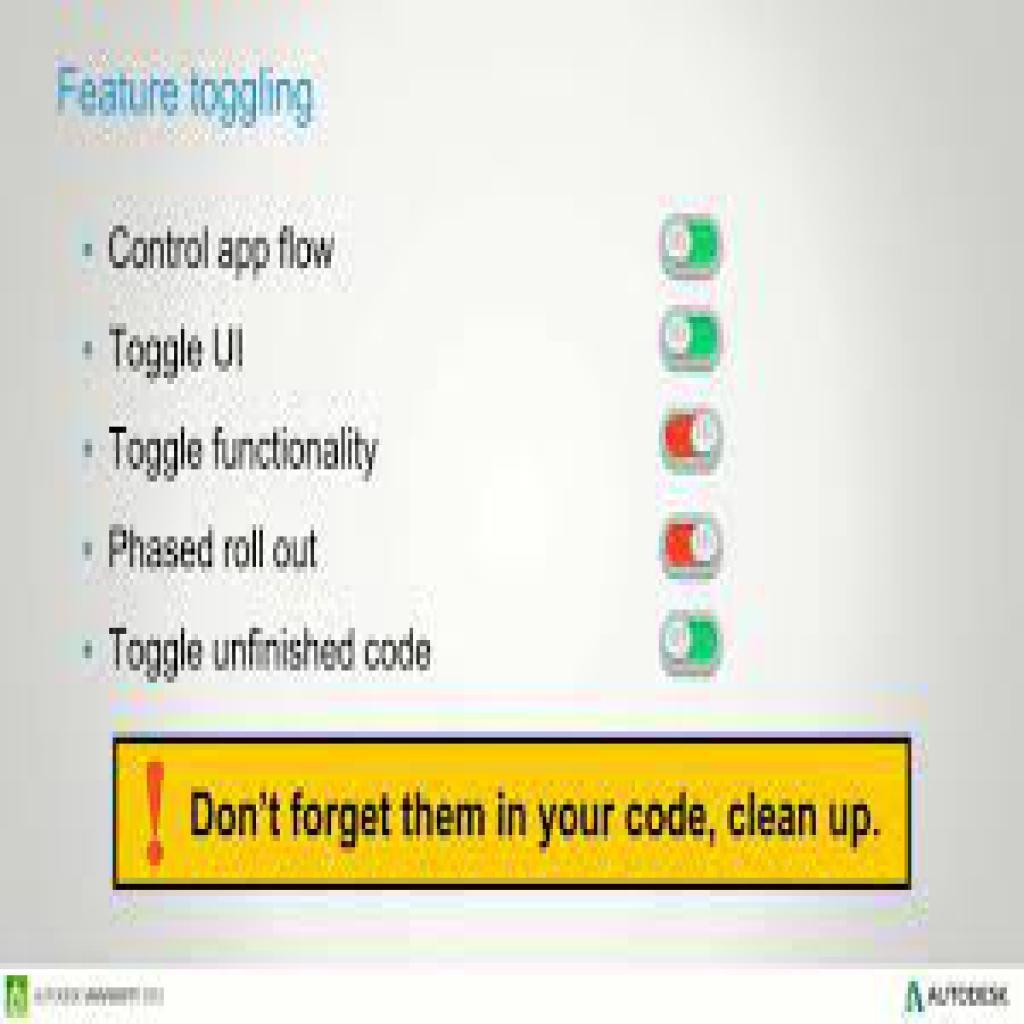label: (75, 619, 441, 686), (81, 416, 383, 479), (49, 57, 320, 125), (82, 522, 333, 581), (86, 221, 336, 278), (81, 322, 252, 377)
switch: (650, 605, 729, 687), (652, 504, 726, 587), (657, 399, 730, 476), (654, 210, 725, 283), (661, 306, 723, 377)
